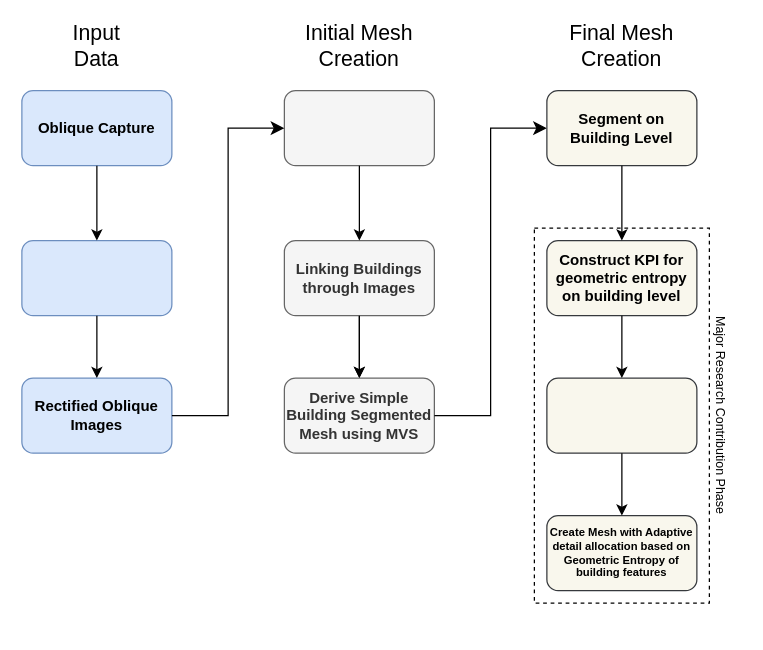
Some shapes in this 763 by 650 pixel diagram are drawn without their labels. Here are the shapes that lost their labels. From the top down, the box of each, then its label:
(283, 89, 434, 166): Segmentation of Buildings in oblique photo
(21, 239, 172, 316): Oblique Images
(546, 377, 697, 453): Add extra points to complex areas based on KPI
